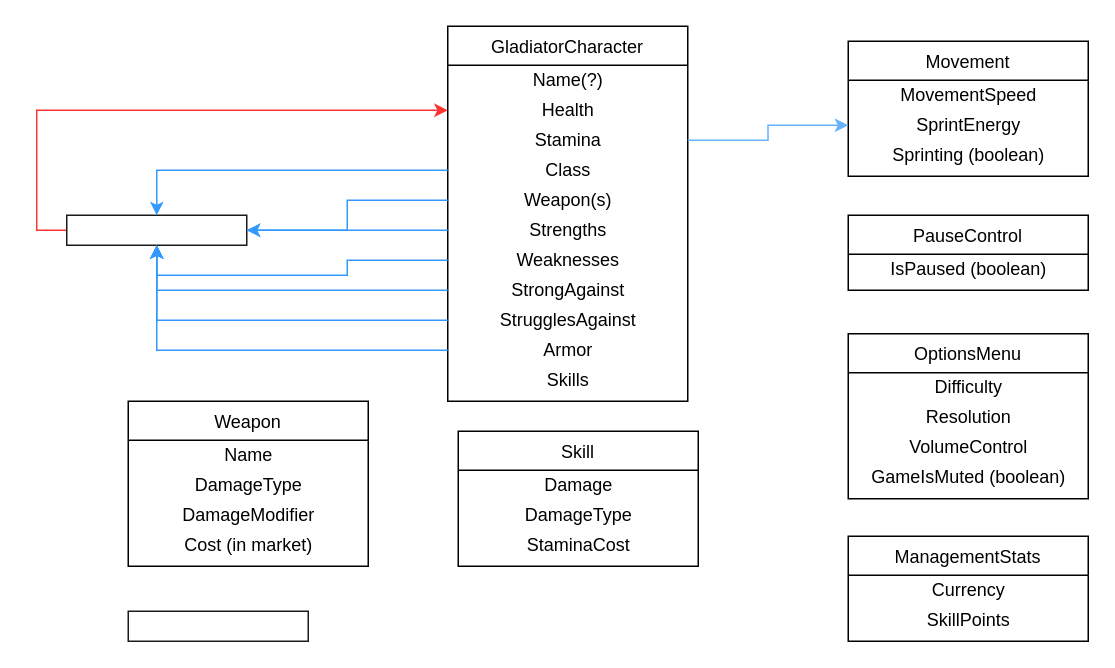
Some shapes in this 1115 by 668 pixel diagram are drawn without their labels. Here are the shapes that lost their labels. From the top down, the centre of each, then its label:
[156,229]: DamageControl
[217,625]: SceneLoader
